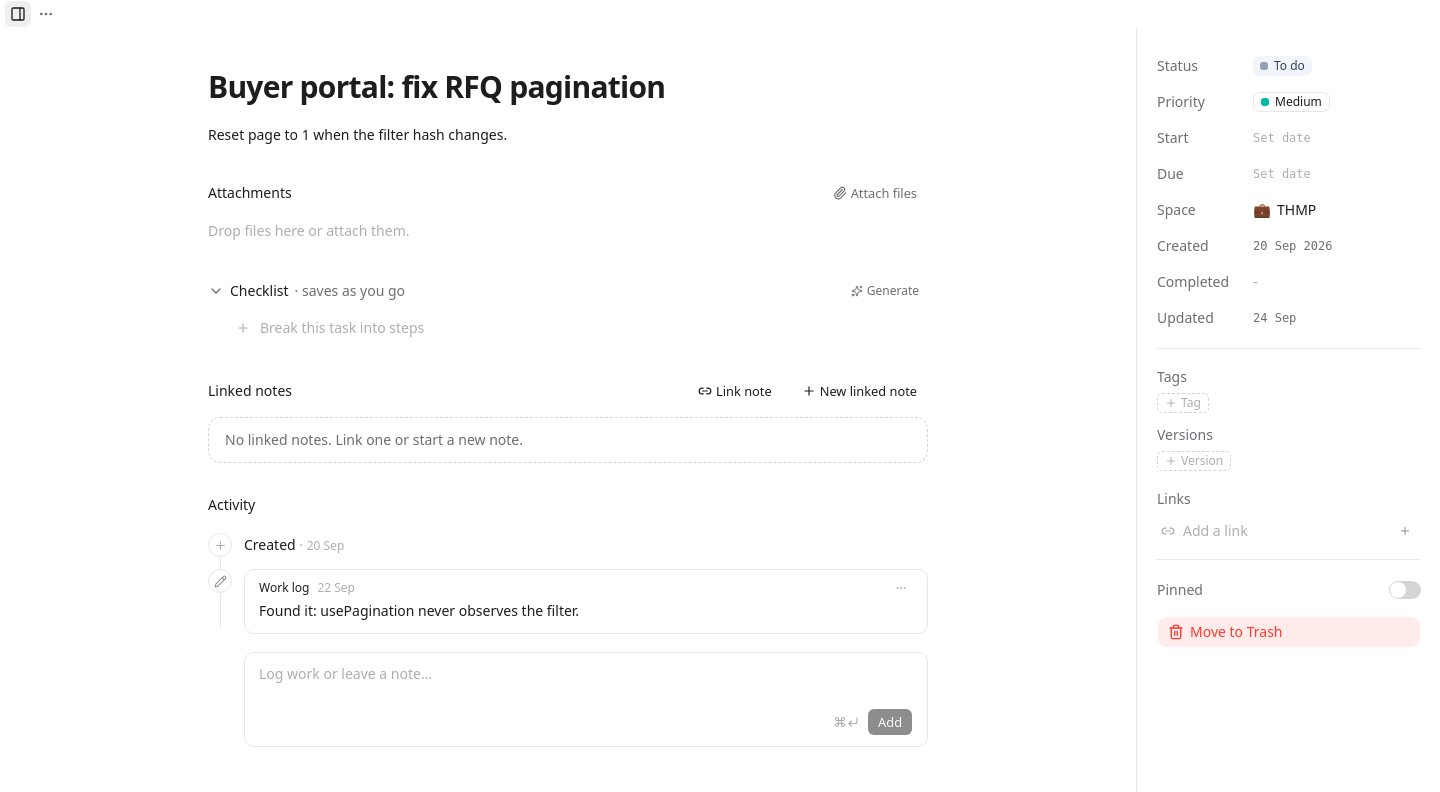
it: TaskDetailPage › links a note from the picker, shows it as a card and logs it
expect the text "No linked notes. Link one or start a new note." is shown: met, box [208,417,928,463]
Click the button "Link note".
click(735, 391)  # box [687,377,783,405]
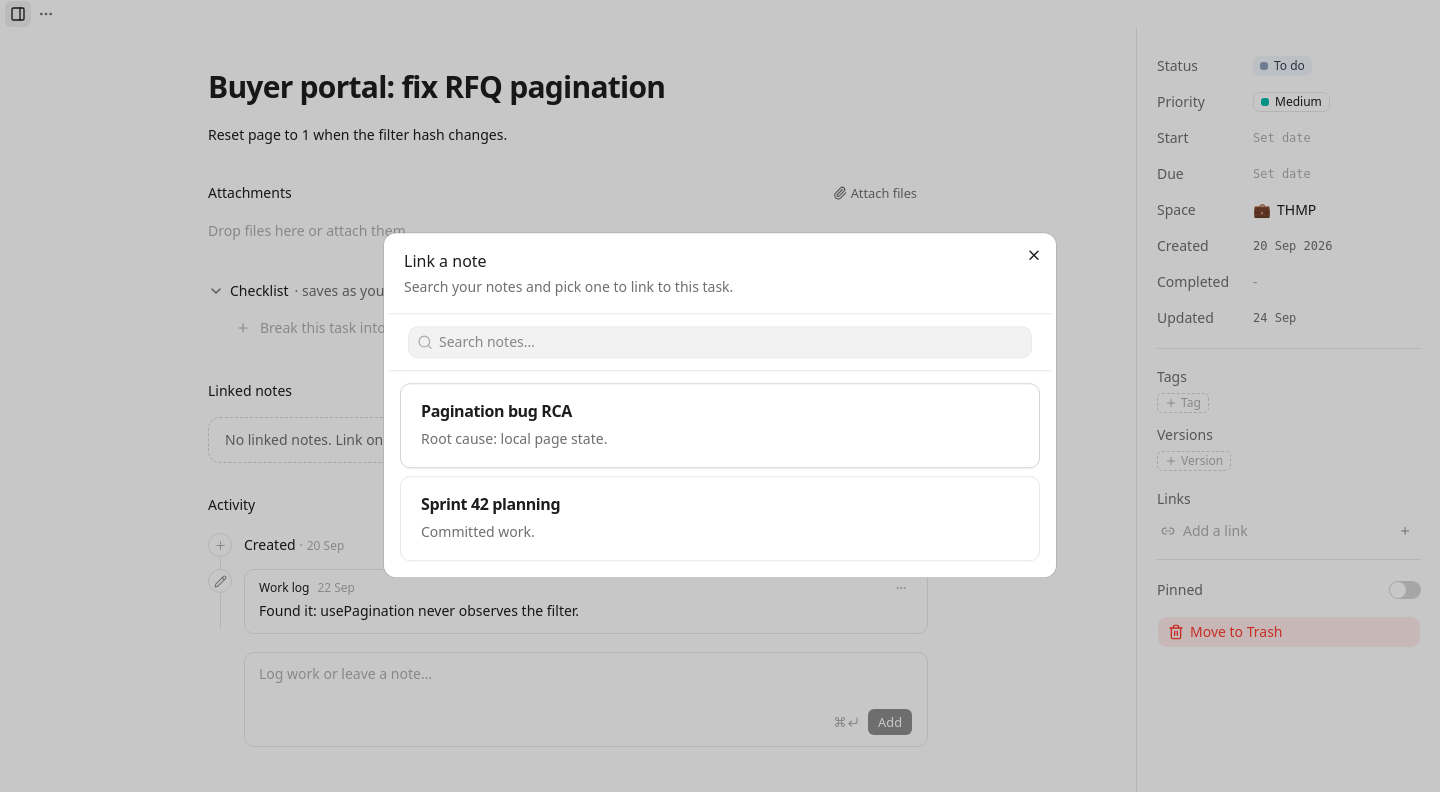
Click the text "Pagination bug RCA".
click(496, 411)  # box [421,400,572,422]
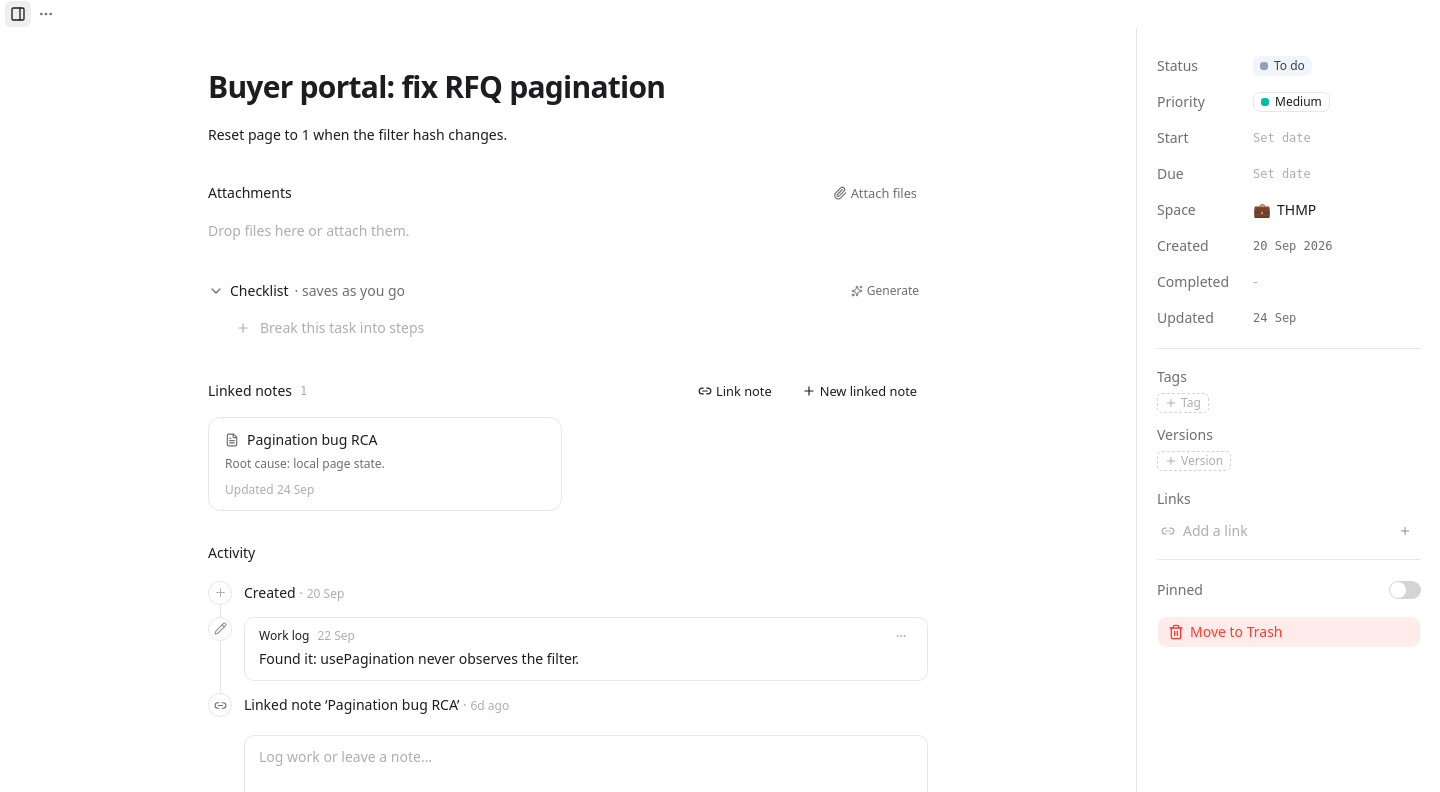
expect the text "Linked note ‘Pagination bug RCA’" is shown: met, box [244,695,459,714]
